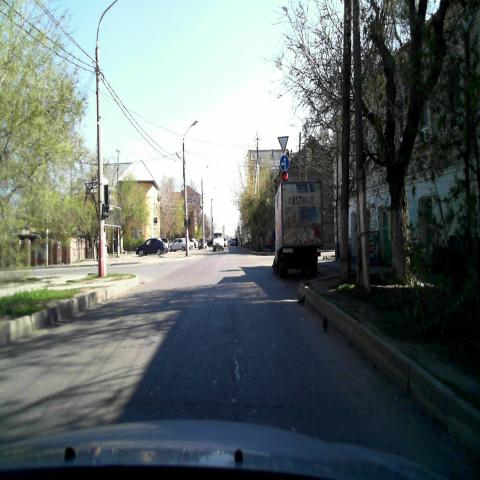4_1_5: (280, 155, 289, 172)
